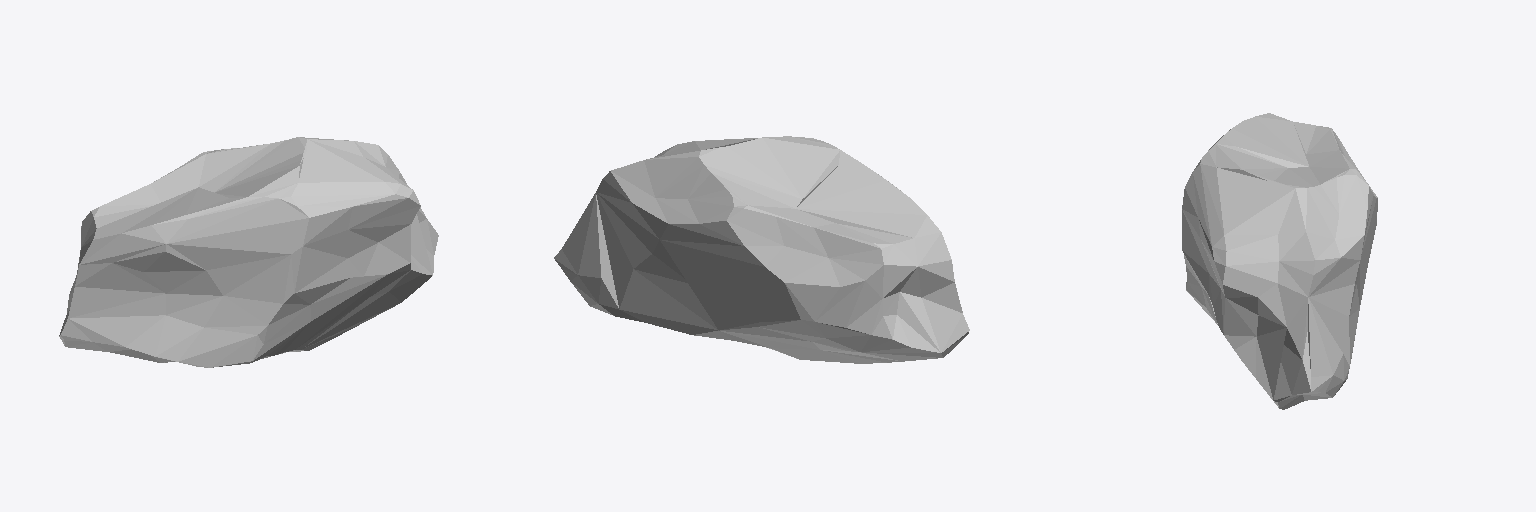
File: Rock_V1.obj
3 views of the same model, side by side, from view 1: azimuth 30°, elevation 25°; view 2: azimuth 150°, elevation 25°; view 3: azimuth 270°, elevation 25° (orthographic).
Visible parts, largest first — view 1: Cube_Cube.001; view 2: Cube_Cube.001; view 3: Cube_Cube.001.
Boxes of the visible parts, x1=… form: Cube_Cube.001: x1=59, y1=137, x2=438, y2=367; Cube_Cube.001: x1=554, y1=136, x2=969, y2=363; Cube_Cube.001: x1=1182, y1=113, x2=1377, y2=409.
Bounding box in the file's own units: 8.89 × 4.21 × 3.82.